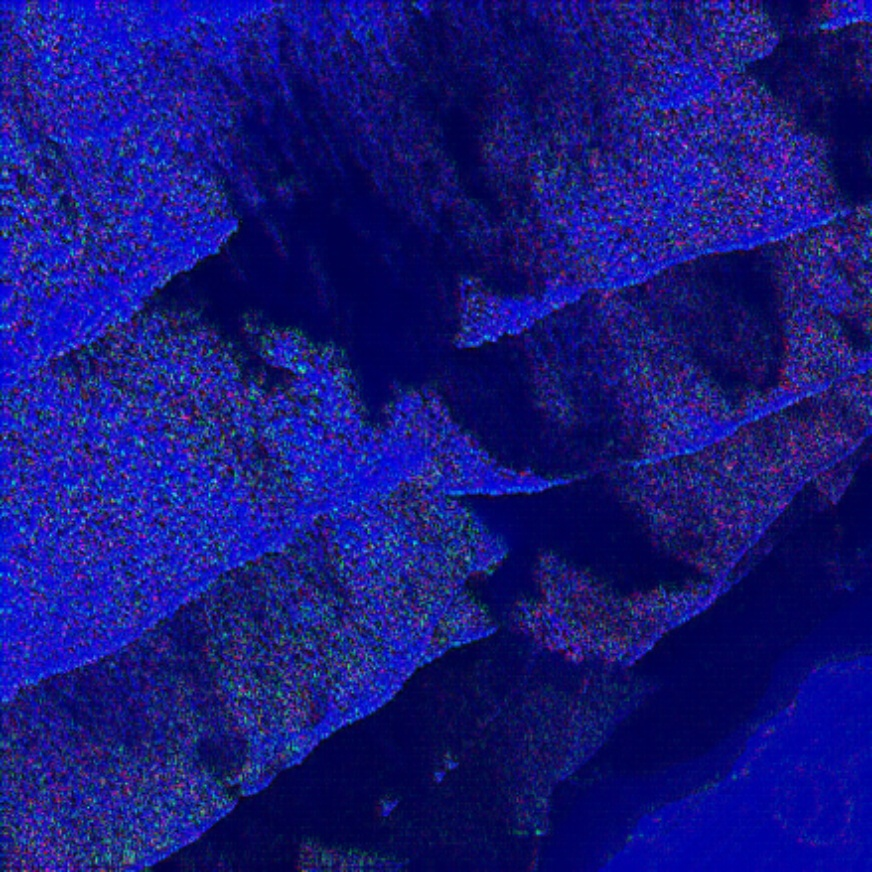rip_current: (151, 100, 711, 668)
